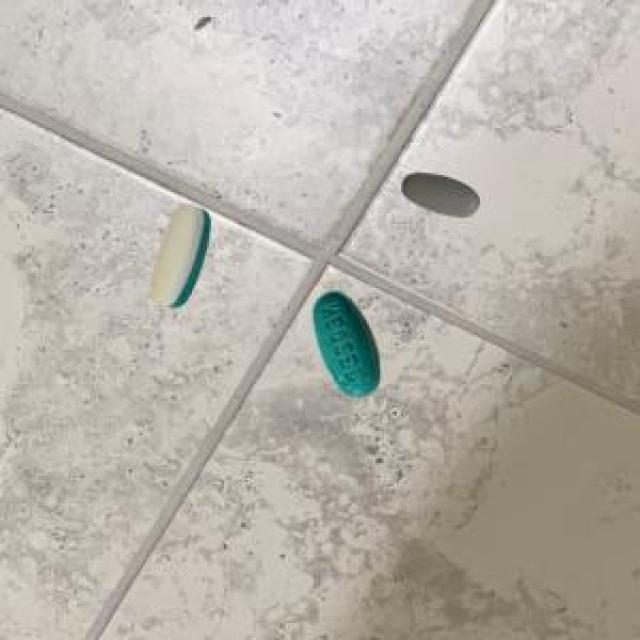Neozep: (298, 280, 398, 414), (141, 191, 226, 316), (386, 157, 487, 231)
